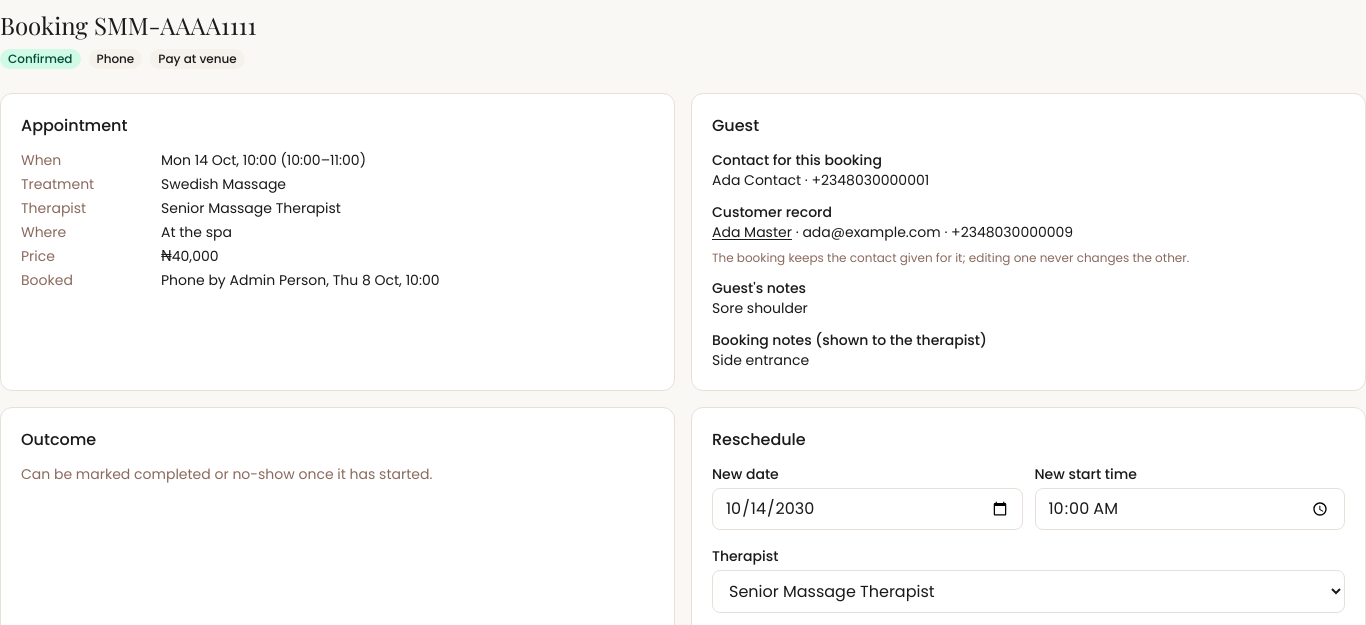
appointment detail › rescheduling outside the rules offers an explicit override, then sends it
The width and height of the screenshot is (1366, 625).
Replace the text in the time field labelled "New start time" with "13:00" at coordinates (1190, 509), box left=1034, top=488, right=1345, bottom=530
(page scrolled)
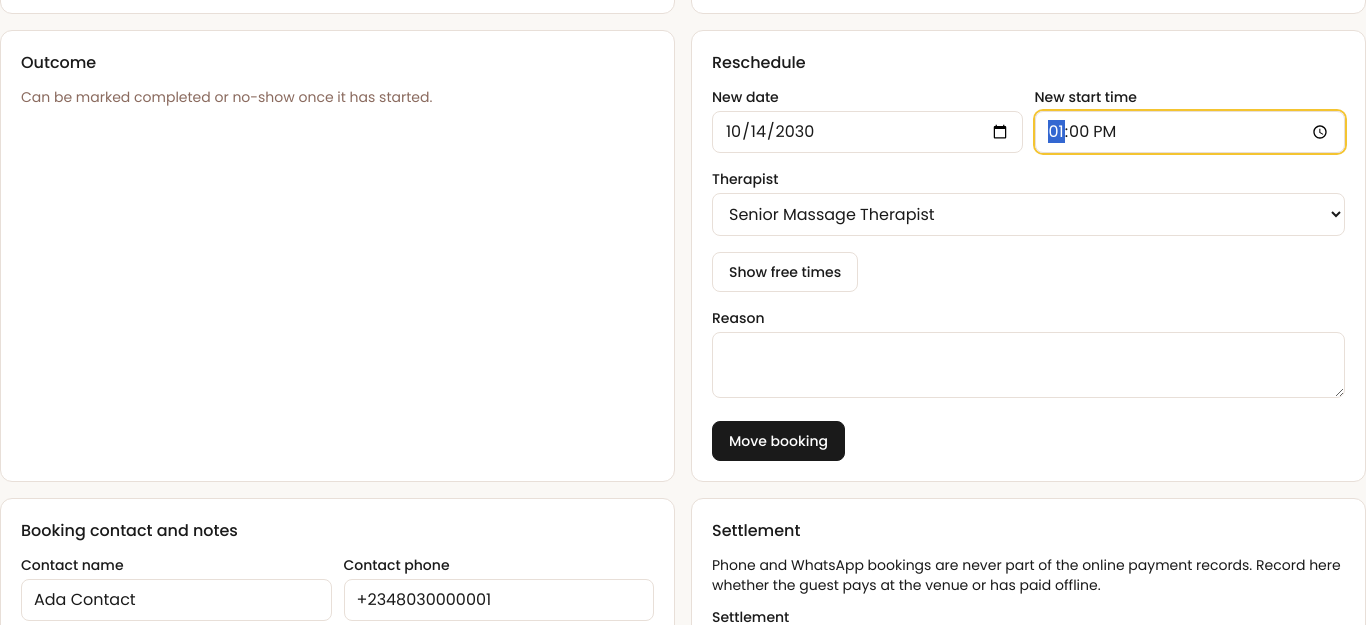
Type "Guest asked" into the text box labelled "Reason" at coordinates (1028, 365), box left=712, top=332, right=1345, bottom=398
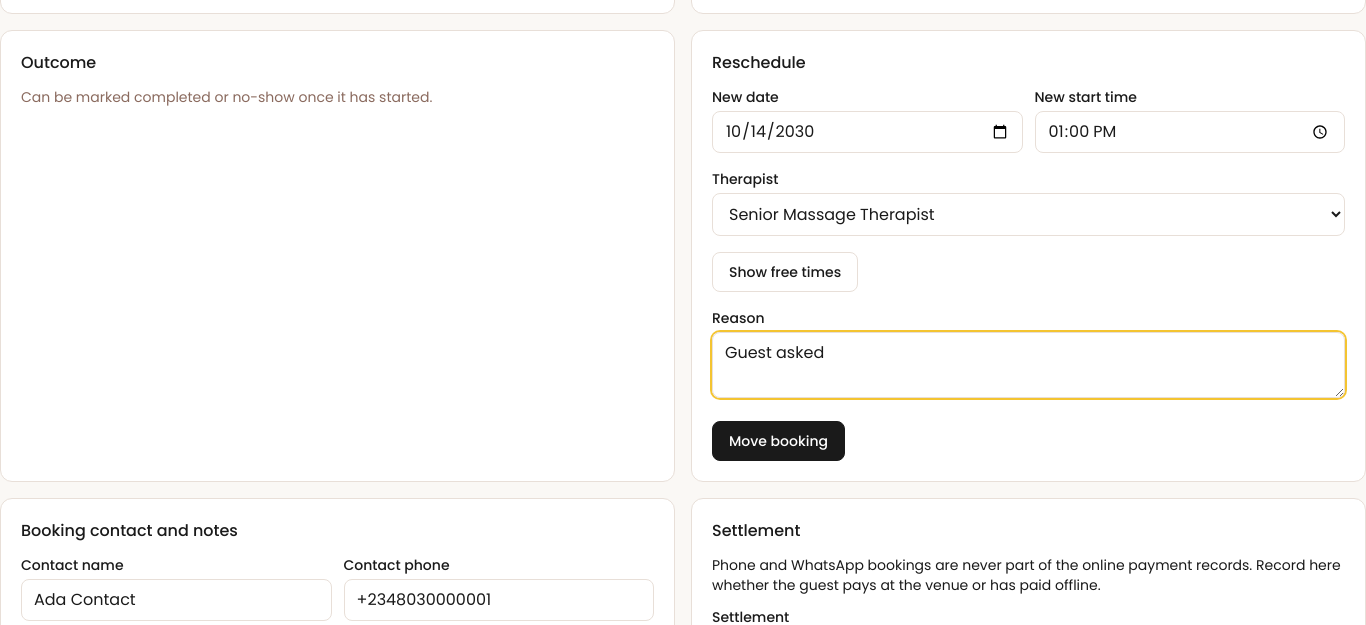
Click the button "Move booking" at coordinates (778, 441), box left=712, top=421, right=845, bottom=461
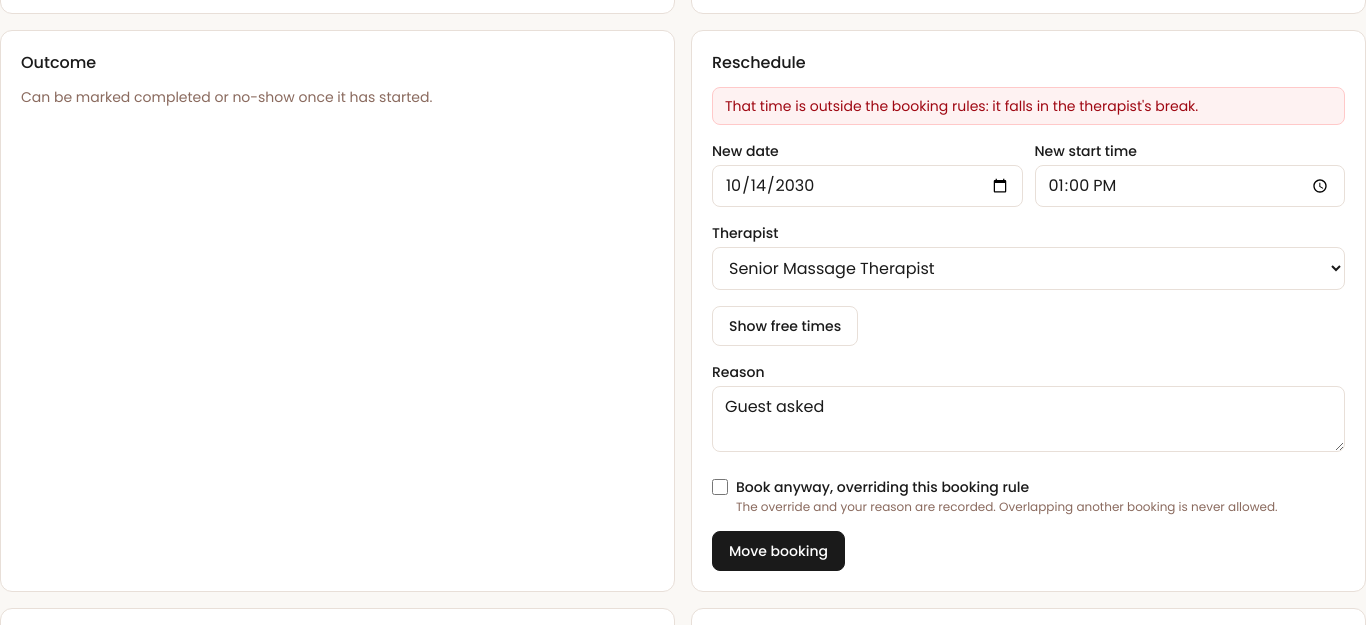
Expected: the message reads "That time is outside the booking rules: it falls in the therapist's break.", left=725, top=96, right=1198, bottom=116
Click the checkbox labelled "Book anyway, overriding this booking rule" at coordinates (720, 487), box left=712, top=479, right=728, bottom=495
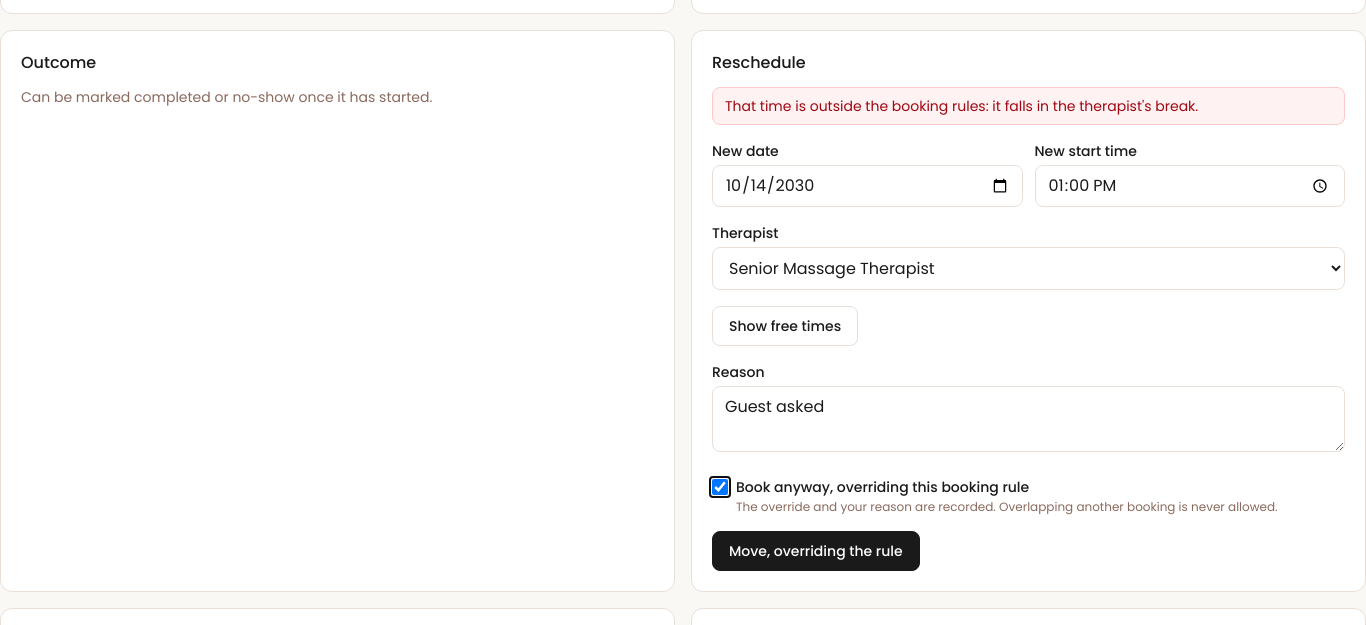
Click the button "Move, overriding the rule" at coordinates (816, 551), box left=712, top=531, right=920, bottom=571
(page scrolled)
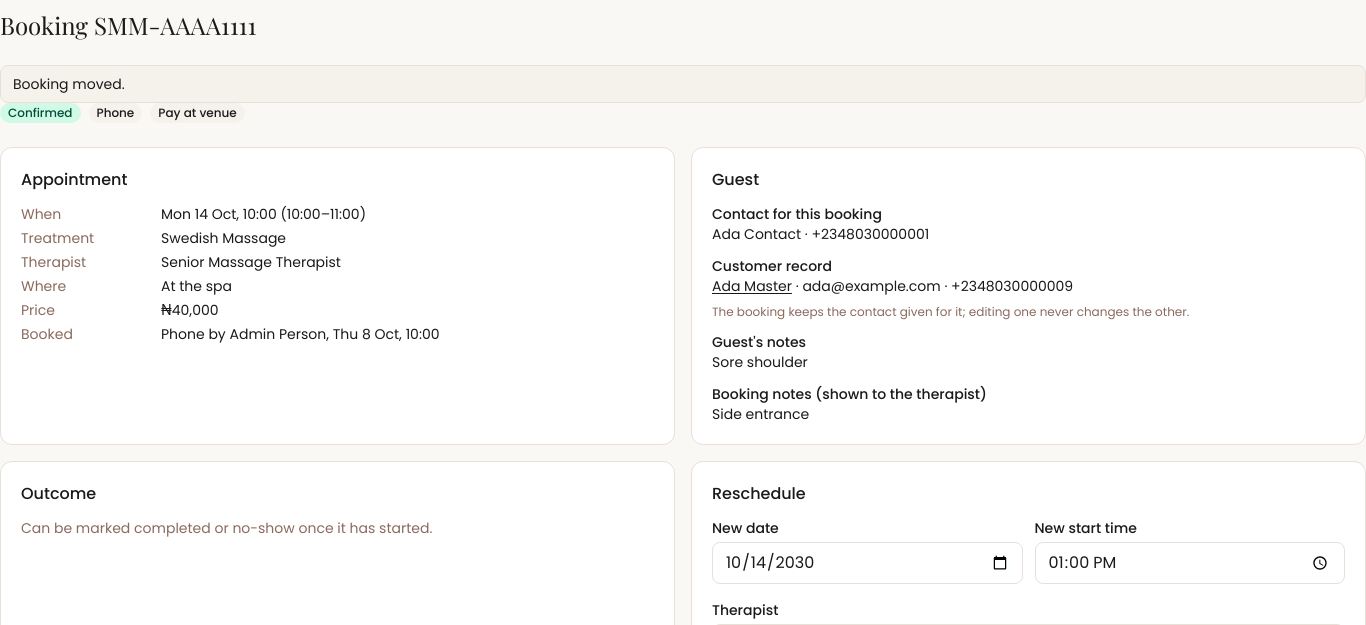
Expected: the text "Booking moved." is shown, left=0, top=65, right=1365, bottom=103
